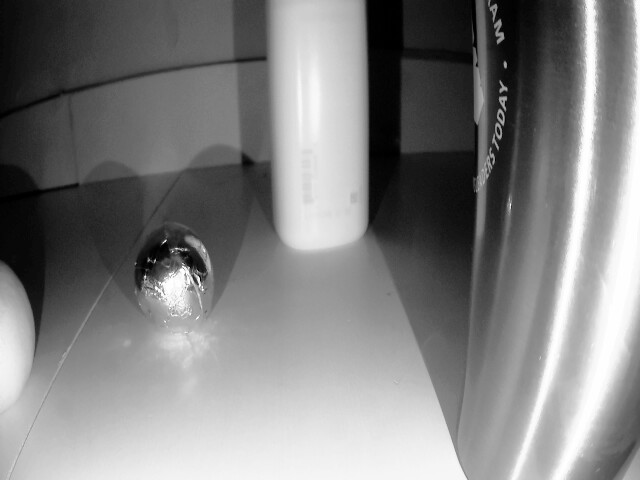silver: (128, 224, 225, 333)
